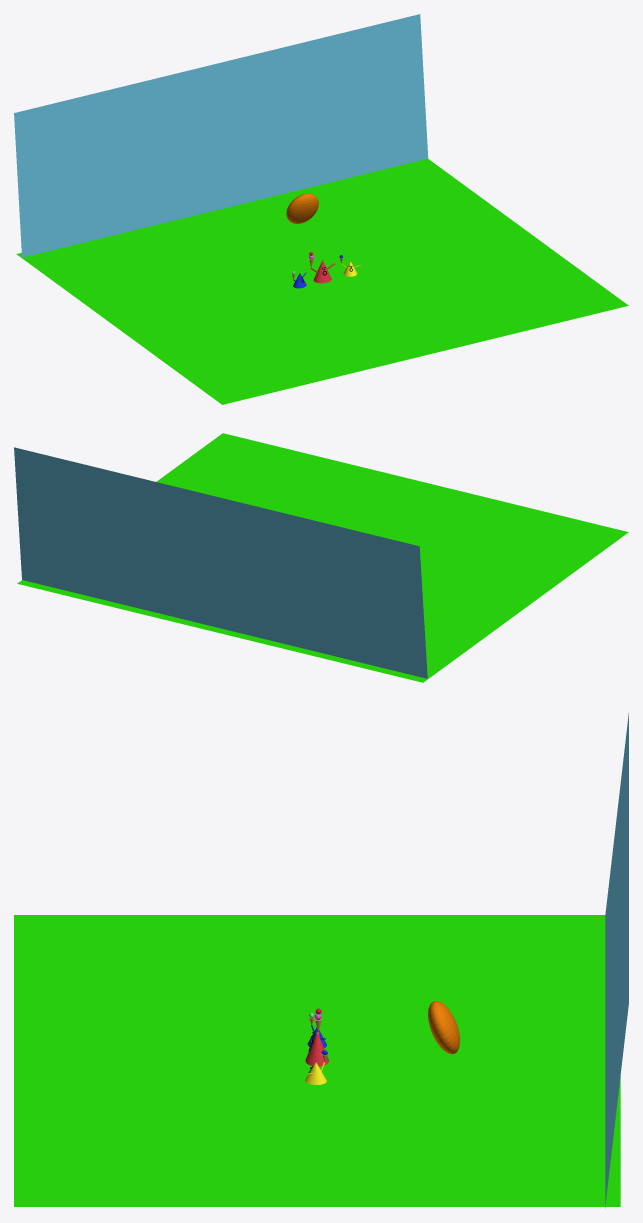
The model's file is Structure.glb.
3 views of the same model, one above another, from view 1: azimuth 30°, elevation 25°; view 2: azimuth 150°, elevation 25°; view 3: azimuth 270°, elevation 25° (orthographic). The views are drawn at different scales.
Visible parts, largest first — view 1: Plane, Plane.001, Sphere.013; view 2: Plane.001, Plane; view 3: Plane, Plane.001, Sphere.013.
Boxes of the visible parts, x1=… form: Plane: x1=16, y1=158, x2=628, y2=404; Plane.001: x1=14, y1=14, x2=428, y2=257; Sphere.013: x1=286, y1=193, x2=318, y2=223; Plane.001: x1=14, y1=447, x2=427, y2=678; Plane: x1=17, y1=433, x2=628, y2=682; Plane: x1=14, y1=915, x2=620, y2=1206; Plane.001: x1=605, y1=713, x2=628, y2=1208; Sphere.013: x1=428, y1=1001, x2=459, y2=1054.
Bounding box in the file's own units: 577 × 189 × 514.
